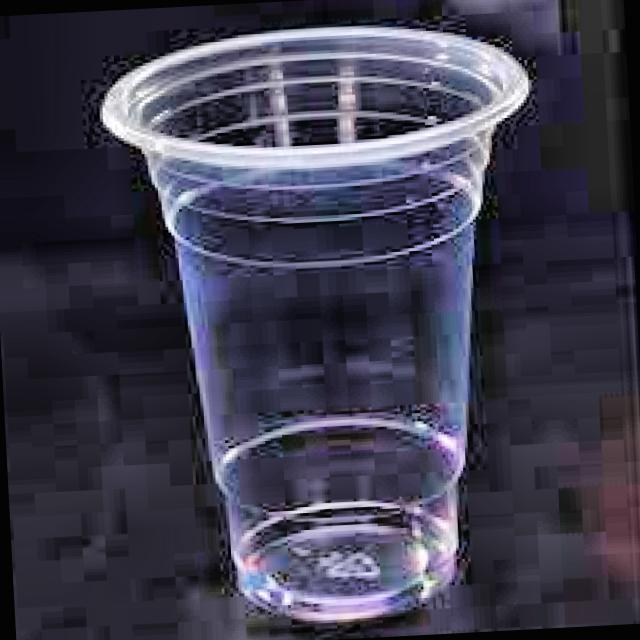plastic cup: (102, 27, 529, 621)
